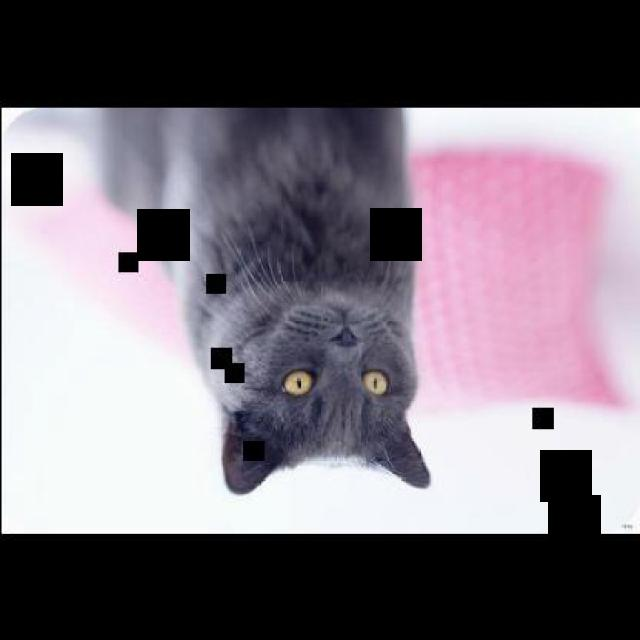unauthorized: (4, 106, 430, 494)
